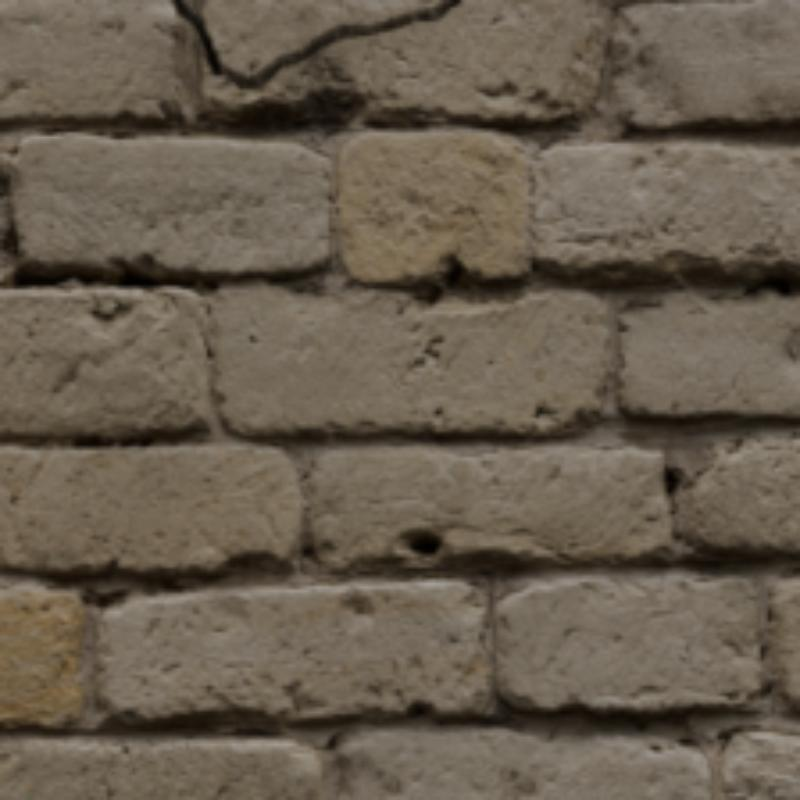pothole: (171, 0, 457, 86)
